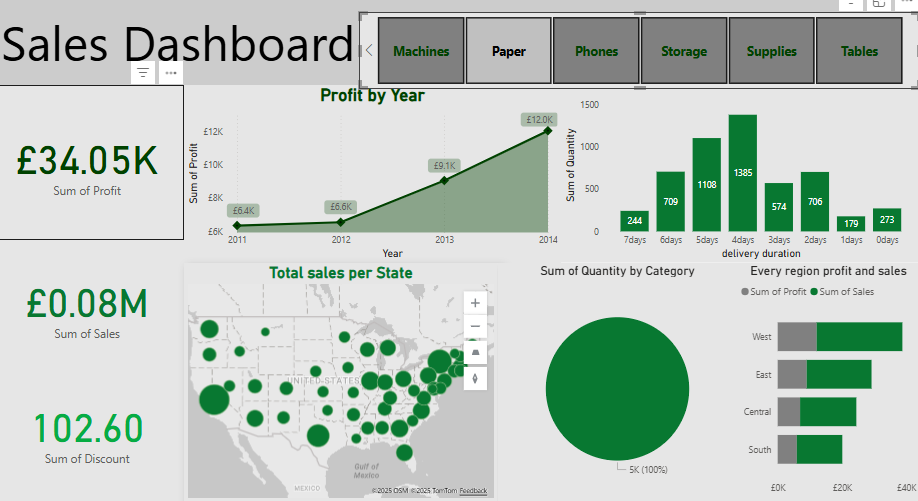

What the dashboard file says about the page in this screenshot:
{"tool":"powerbi","page":{"name":"Page 1","canvas":[1280,720],"ordinal":0},"visuals":[{"type":"shape","title":"    ","box":[0,0,1280,152.9],"z":0},{"type":"card","fields":{"Values":["Sum(Data.Profit)"]},"box":[0,147.3,267,213.3],"z":1000},{"type":"card","fields":{"Values":["Sum(Data.Discount)"]},"box":[0,527.1,267,192.7],"z":2000},{"type":"card","fields":{"Values":["Sum(Data.Sales)"]},"box":[0,360.6,267,181.7],"z":3000},{"type":"areaChart","title":"Profit by Year","fields":{"Category":["Data.Year"],"Y":["Sum(Data.Profit)"]},"box":[267,147.3,518.9,245],"z":4000},{"type":"azureMap","title":"Total sales per State","fields":{"Size":["Sum(Data.Sales)"],"Category":["Data.State"]},"box":[267,392.3,432.2,327.6],"z":5000},{"type":"pieChart","fields":{"Category":["Data.Category"],"Y":["Sum(Data.Quantity)"]},"box":[699.2,392.3,328.9,327.6],"z":6000},{"type":"slicer","fields":{"Values":["Data.Sub-Category"]},"box":[507.9,46.8,772.1,106],"z":7000},{"type":"clusteredColumnChart","fields":{"Category":["Data.delivery duration"],"Y":["Sum(Data.Quantity)"]},"box":[786,153,494,239],"z":8000},{"type":"barChart","title":"Every region profit and sales ","fields":{"Category":["Data.Region"],"Y":["Sum(Data.Profit)","Sum(Data.Sales)"]},"box":[1028,392,252,328],"z":9000}]}

Visuals, with their boxes on the page's 1280x720 design canvas (x1, y1, x2, y2). These are canvas units, not pixel positions in the 918x501 screenshot, which may show the page scaled, cropped or inside an application window:
"    " shape: [x1=0, y1=0, x2=1280, y2=153]
card - Sum(Data.Profit): [x1=0, y1=147, x2=267, y2=361]
card - Sum(Data.Discount): [x1=0, y1=527, x2=267, y2=720]
card - Sum(Data.Sales): [x1=0, y1=361, x2=267, y2=542]
"Profit by Year" areaChart: [x1=267, y1=147, x2=786, y2=392]
"Total sales per State" azureMap: [x1=267, y1=392, x2=699, y2=720]
pieChart - Data.Category x Sum(Data.Quantity): [x1=699, y1=392, x2=1028, y2=720]
slicer - Data.Sub-Category: [x1=508, y1=47, x2=1280, y2=153]
clusteredColumnChart - Data.delivery duration x Sum(Data.Quantity): [x1=786, y1=153, x2=1280, y2=392]
"Every region profit and sales " barChart: [x1=1028, y1=392, x2=1280, y2=720]
